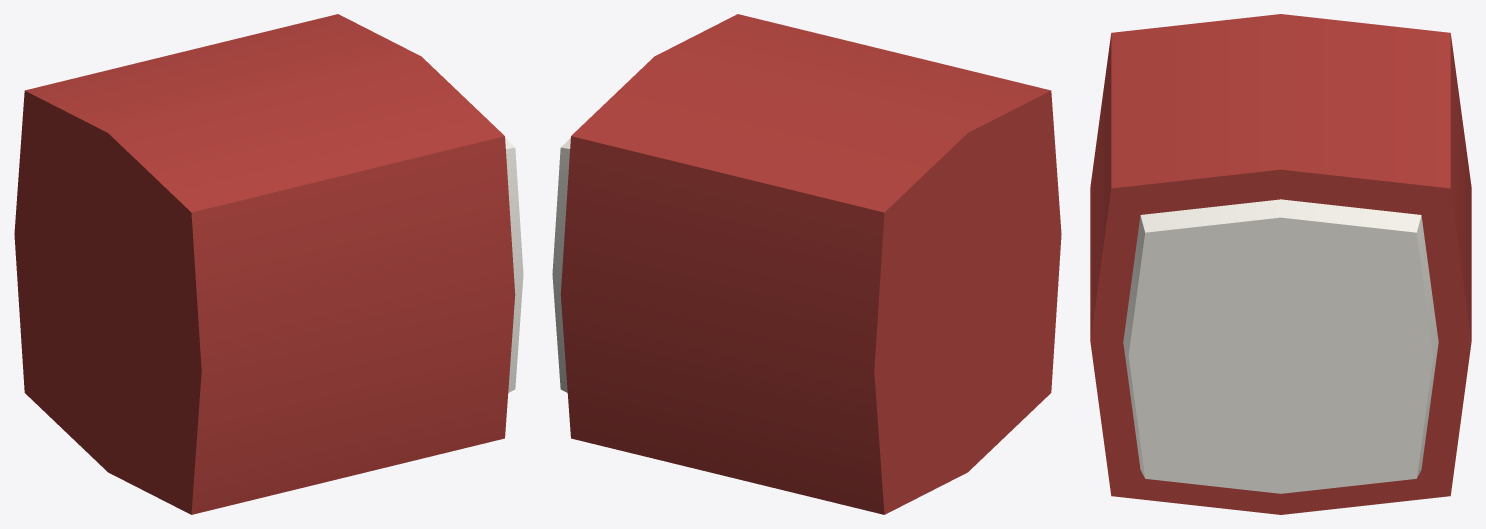
The picture shows the model from 3 angles, left to right: view 1: azimuth 30°, elevation 25°; view 2: azimuth 150°, elevation 25°; view 3: azimuth 270°, elevation 25°; orthographic projection.
Visible parts, largest first — view 1: cube_lod1; view 2: cube_lod1; view 3: cube_lod1.
Part boxes in pixels (x1,y1,x2,y2): cube_lod1: [14, 14, 523, 514]; cube_lod1: [552, 14, 1061, 514]; cube_lod1: [1090, 14, 1471, 514].
Bounding box in the file's own units: 0.063 × 0.06 × 0.06.
